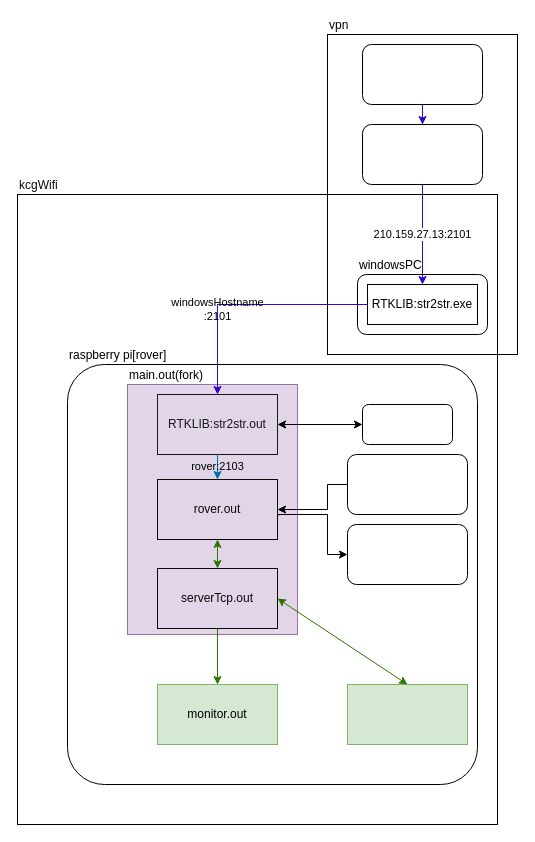
Image size: 535x842. Some labels were removed from this diagram. The shapes that lost their labels are listed below. From the top down, each one's box as (x1, y1, x2, y2) in pixels, then its label:
(362, 44, 482, 104): 基準局
(362, 124, 482, 184): J教室ルータ 210.159.27.13
(362, 404, 452, 444): f9p : 移動局
(346, 454, 468, 514): 方位センサ
(346, 524, 468, 584): モータドライバ
(346, 684, 468, 744): consoleBase.out (consolePattern.out) (consoleM5stikC.out)
